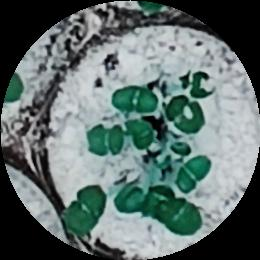Basil: (66, 185, 105, 233), (113, 184, 167, 212), (169, 94, 204, 137), (105, 86, 160, 112), (158, 199, 200, 233), (83, 124, 123, 159), (176, 154, 211, 192), (126, 121, 159, 152)
